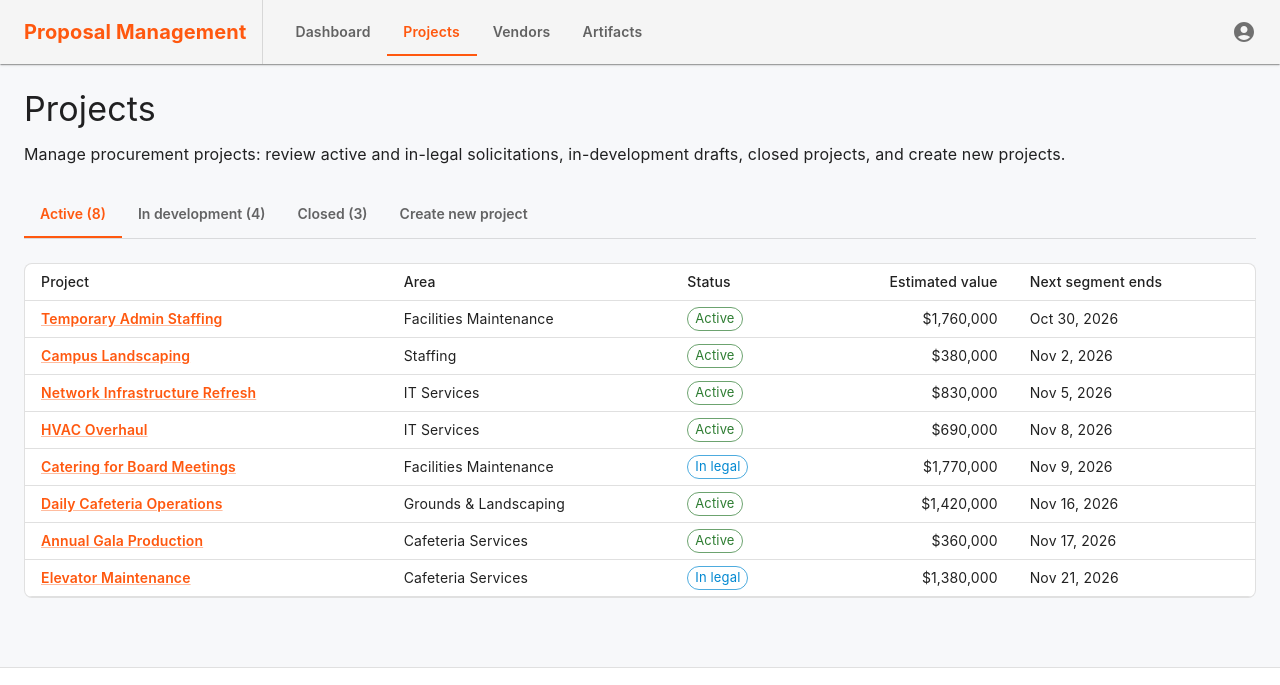
it: Procurement features (Phase 3) › switches to the Create tab and shows the create form
Expected: the heading "Projects" is shown, [24, 88, 156, 129]
Click the tab "Create new project": (464, 214) [384, 190, 544, 238]
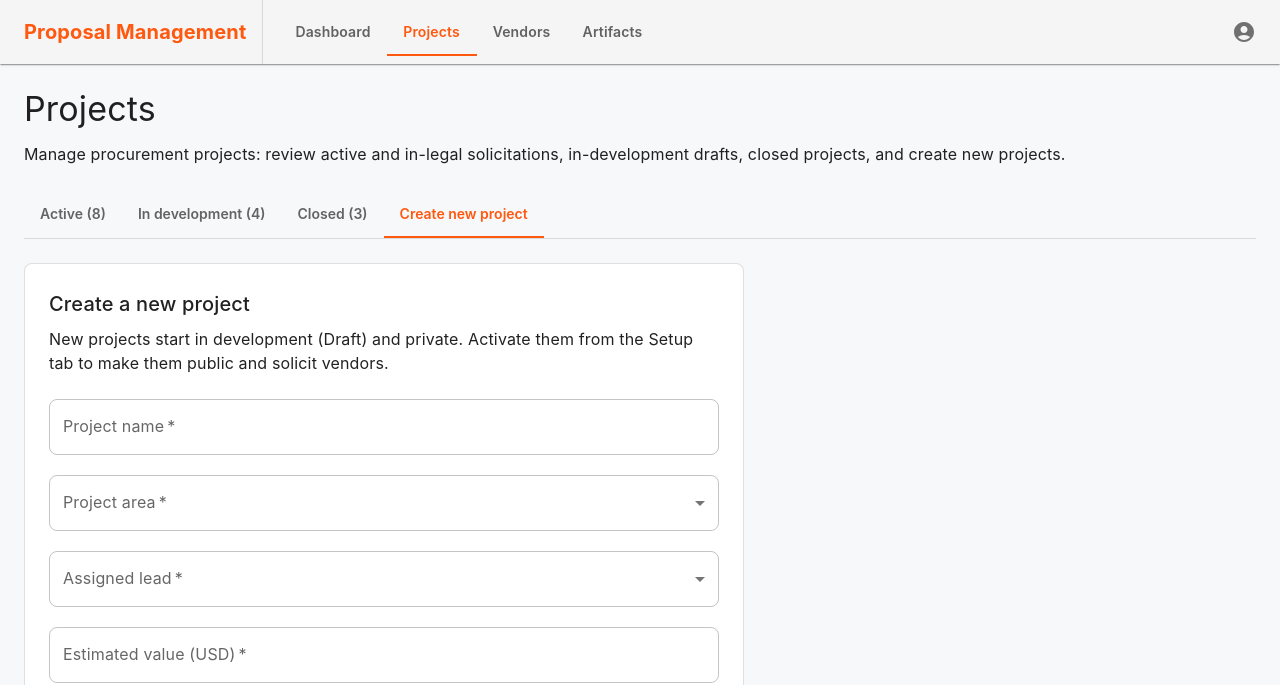
Expected: the heading "Create a new project" is shown, [49, 292, 250, 316]
